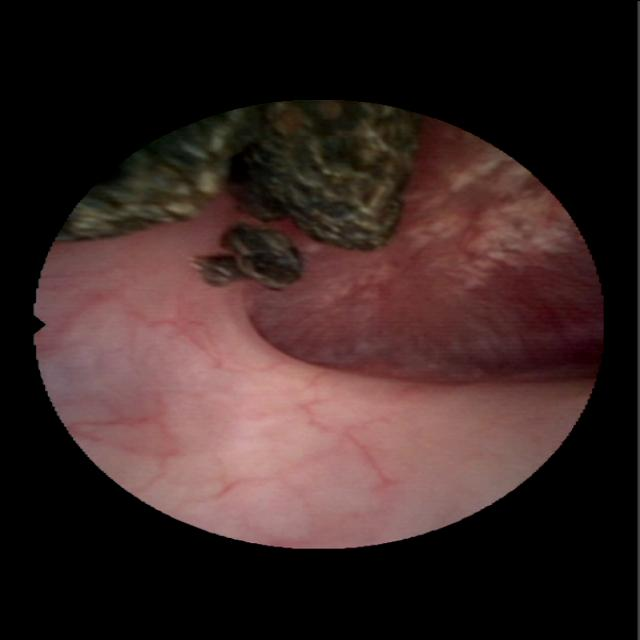stone: (59, 104, 414, 247), (197, 229, 298, 285)
tissue: (40, 129, 584, 534)
